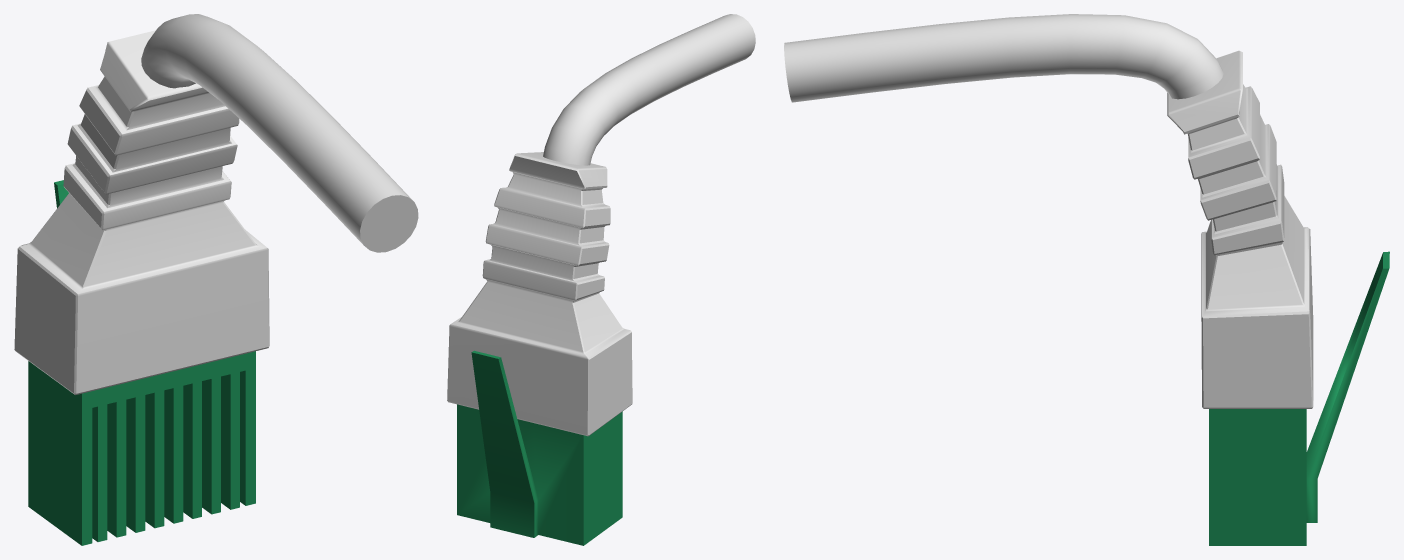
Rendered from ConectorRed2.fbx.
3 renders of one model, left to right at view 1: azimuth 30°, elevation 25°; view 2: azimuth 150°, elevation 25°; view 3: azimuth 270°, elevation 25°, orthographic. The views are drawn at different scales.
Parts seen in each view (by area): view 1: pCube7, pCylinder30; view 2: pCube7, pCylinder30; view 3: pCube7, pCylinder30.
Boxes of the visible parts, x1,y1,x2,y2 form: pCube7: (14,30,269,545); pCylinder30: (141,14,418,252); pCube7: (447,152,632,545); pCylinder30: (543,14,755,165); pCube7: (1167,50,1389,545); pCylinder30: (784,14,1223,102).
Bounding box in the file's own units: 0.9845 × 2.58 × 2.9.
